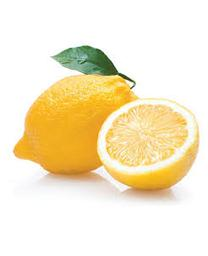lemon: (14, 75, 137, 174), (95, 98, 199, 190)
